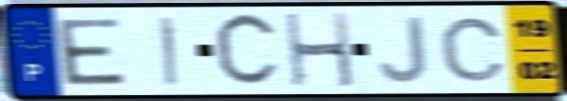C: (210, 9, 282, 92), (437, 15, 510, 84)
E: (53, 16, 130, 87)
H: (282, 10, 358, 89)
I: (156, 14, 180, 88)
J: (376, 14, 431, 86)
